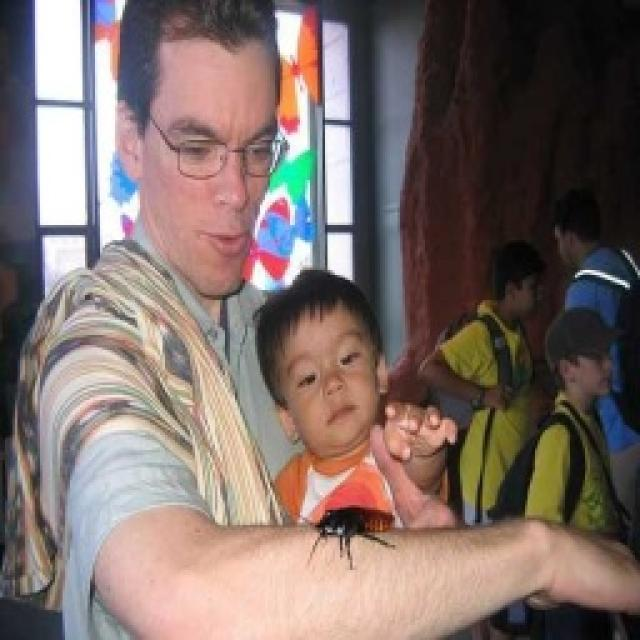cockroach: (303, 503, 400, 572)
